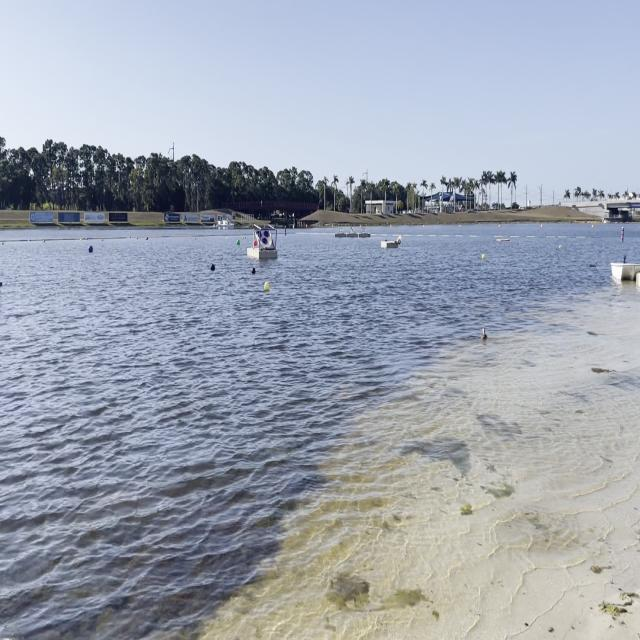buoy: (264, 280, 270, 290), (211, 261, 216, 272), (251, 265, 256, 276), (88, 243, 93, 253), (237, 238, 240, 244), (482, 252, 485, 258), (558, 242, 561, 248)
